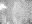person: (1, 4, 6, 10)
